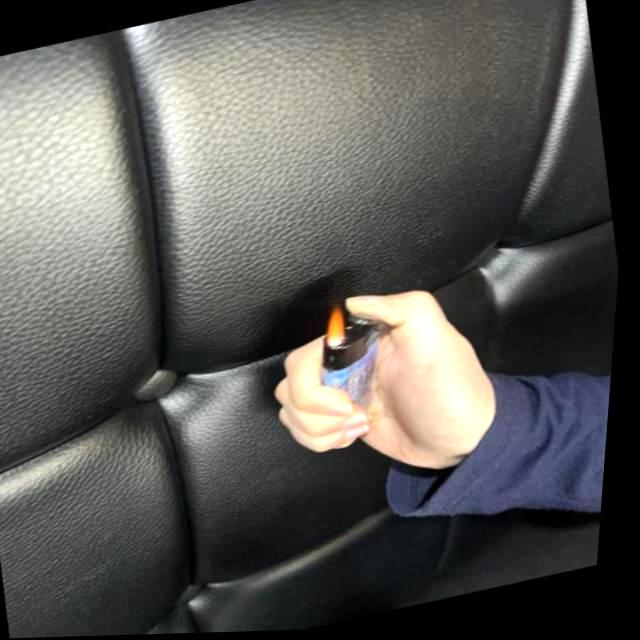fire: (326, 306, 356, 350)
